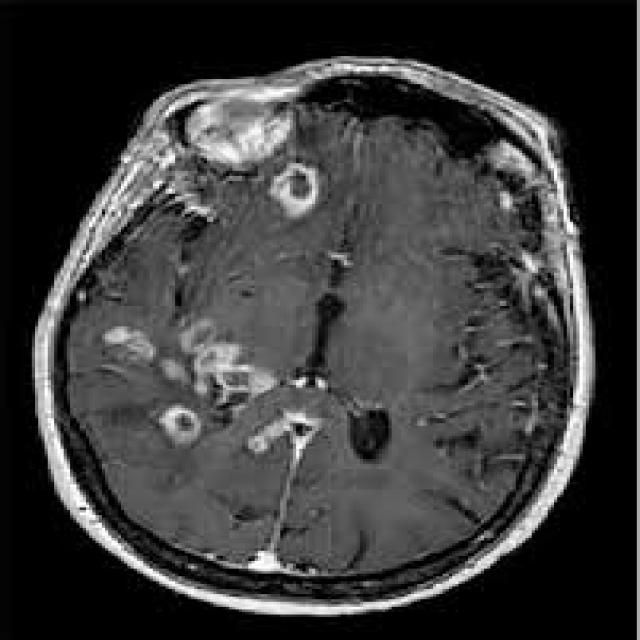Tumor: (198, 104, 294, 156), (103, 318, 158, 365), (213, 362, 280, 399), (154, 409, 204, 447), (202, 338, 240, 380), (174, 315, 214, 351), (281, 178, 317, 210)
